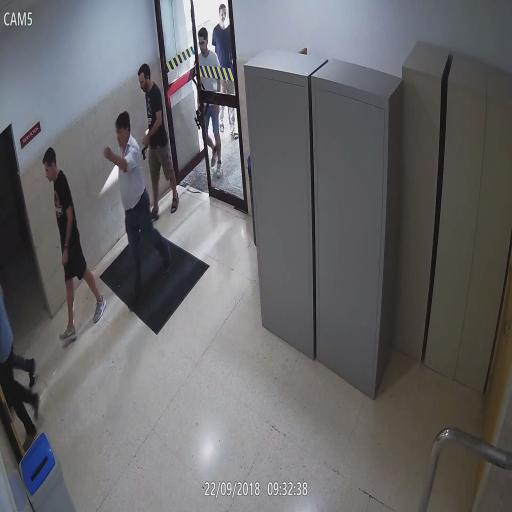Handgun: (139, 142, 149, 160)
